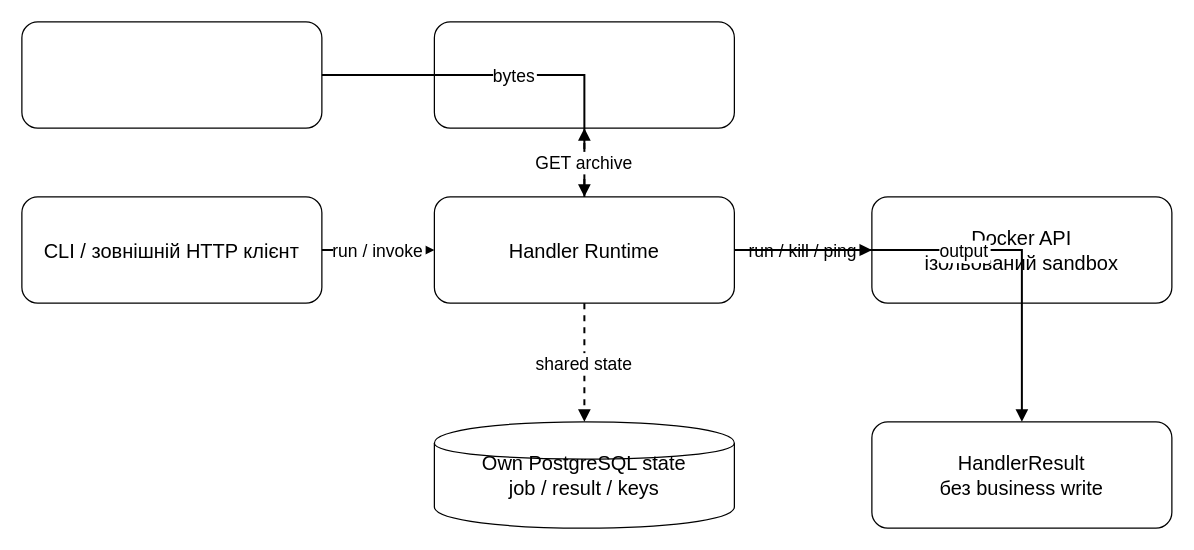
This 1194x550 diagram has some shape labels left out. Each missing label, with the box of its shape:
Registry v1: (433, 21, 734, 128)
Локальний пакет / archive: (21, 21, 322, 128)
